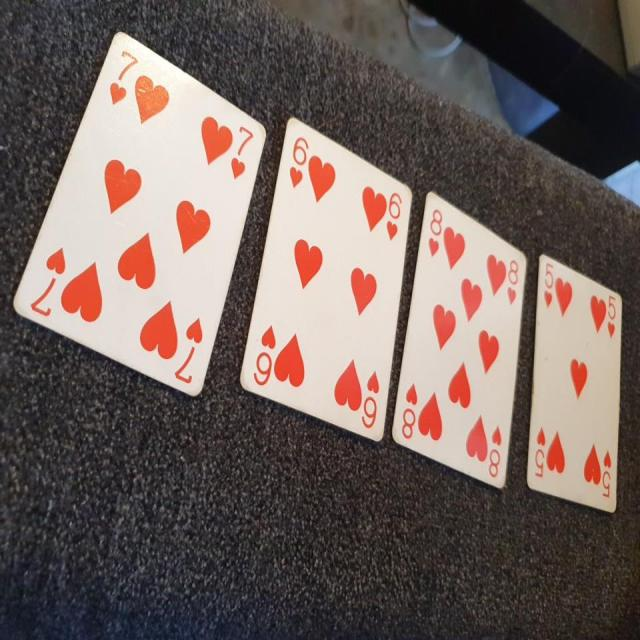5 Hearts: (528, 242, 624, 517)
6 Hearts: (243, 110, 419, 441)
7 Hearts: (5, 20, 273, 402)
8 Hearts: (385, 188, 531, 488)
